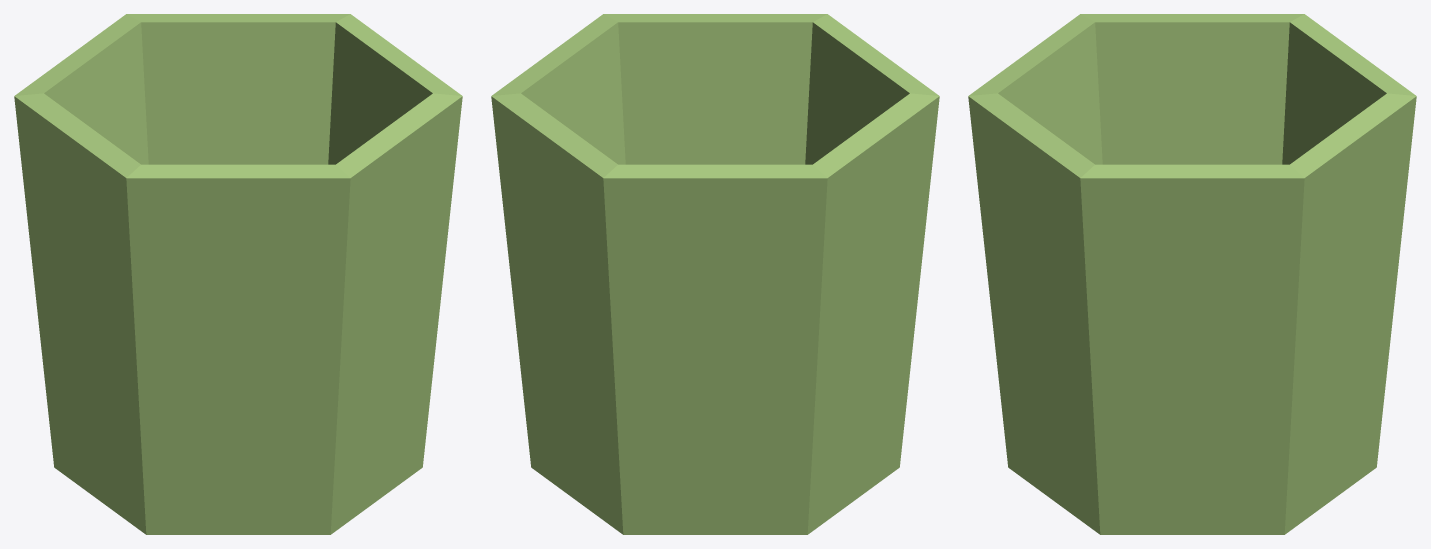
The model's file is Small Glass.fbx.
3 views of the same model, side by side, from view 1: azimuth 30°, elevation 25°; view 2: azimuth 150°, elevation 25°; view 3: azimuth 270°, elevation 25° (orthographic).
Parts seen in each view (by area): view 1: Small Glass; view 2: Small Glass; view 3: Small Glass.
Part boxes in pixels (x1,y1,x2,y2): Small Glass: (14,14,462,534); Small Glass: (491,14,939,534); Small Glass: (968,14,1416,534).
Size of the model in its own units: 11.63 by 12.36 by 13.43.
